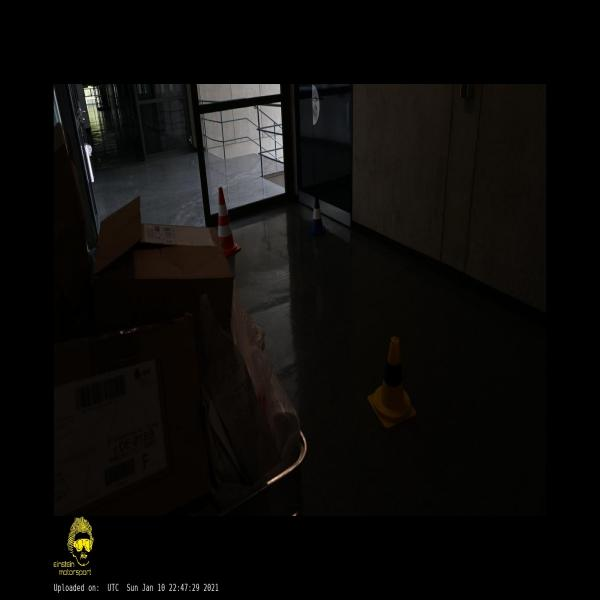blue_cone: (308, 197, 326, 236)
large_orange_cone: (219, 188, 241, 256)
yellow_cone: (367, 337, 416, 429)
